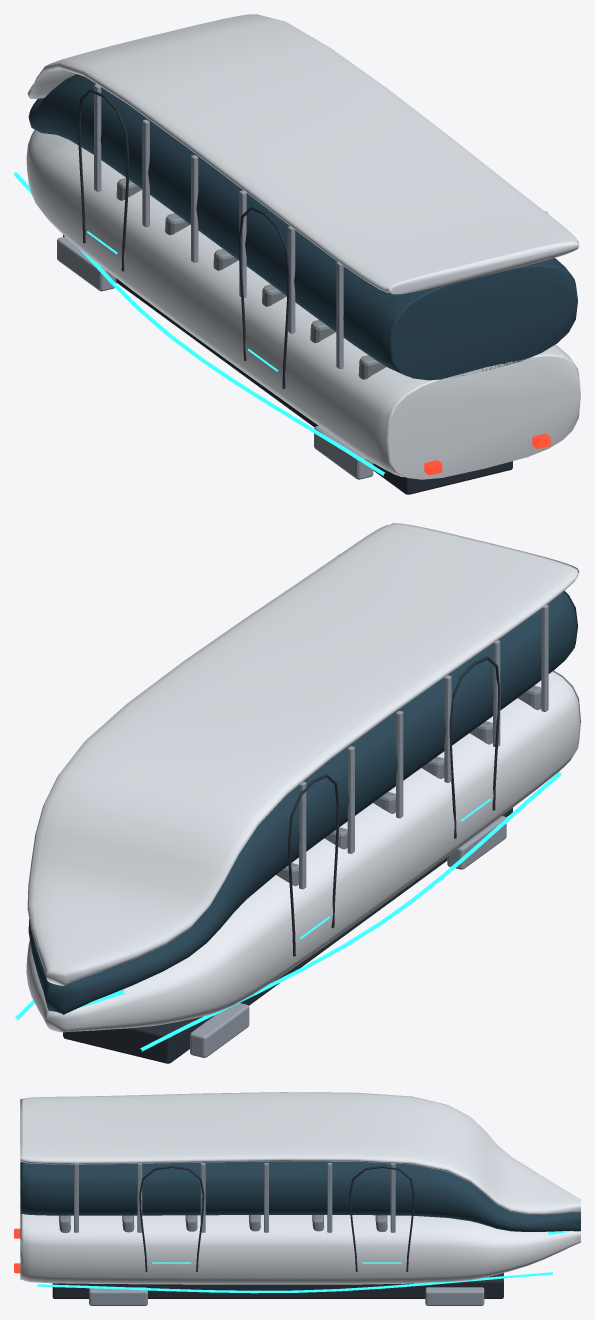
Rendered from orion_tram_cab.gltf.
The picture shows the model from 3 angles, top to bottom: view 1: azimuth 30°, elevation 25°; view 2: azimuth 150°, elevation 25°; view 3: azimuth 270°, elevation 25°; orthographic projection. The views are drawn at different scales.
Visible parts, largest first — view 1: orion_tram_cab; view 2: orion_tram_cab; view 3: orion_tram_cab.
Part boxes in pixels (box(x1,y1,x2,y2)): orion_tram_cab: box(14, 14, 580, 494); orion_tram_cab: box(14, 523, 580, 1063); orion_tram_cab: box(14, 1092, 580, 1305).
Size of the model in its own units: 2.88 by 3.16 by 10.11.
